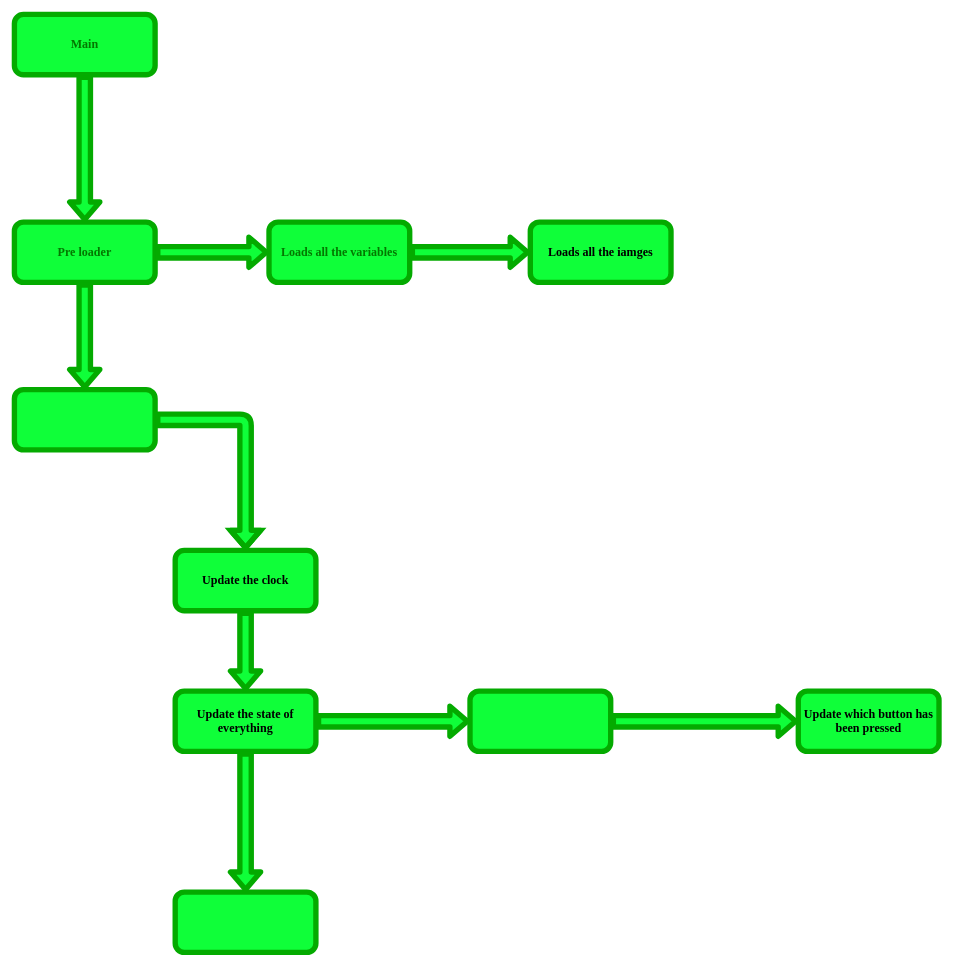
The diagram is 953 pixels wide and 966 high, and some of its shapes have lost their labels. The centre of each missing label's shape, as x and y in pixels:
Main game loop: (84,419)
Render: (245,922)
Update the mouse deatails: (540,721)
